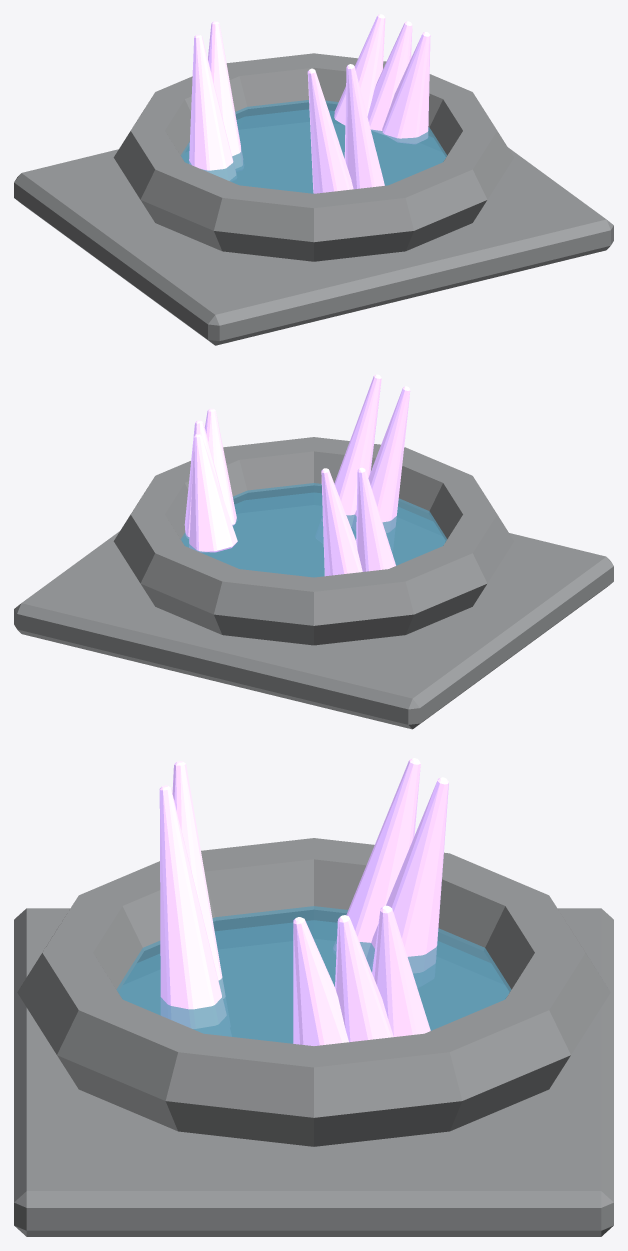
File: harthmere_old_well_essence.glb
3 views of the same model, one above another, from view 1: azimuth 30°, elevation 25°; view 2: azimuth 150°, elevation 25°; view 3: azimuth 270°, elevation 25° (orthographic). The views are drawn at different scales.
Size of the model in its own units: 2.2 by 1.05 by 1.9.
